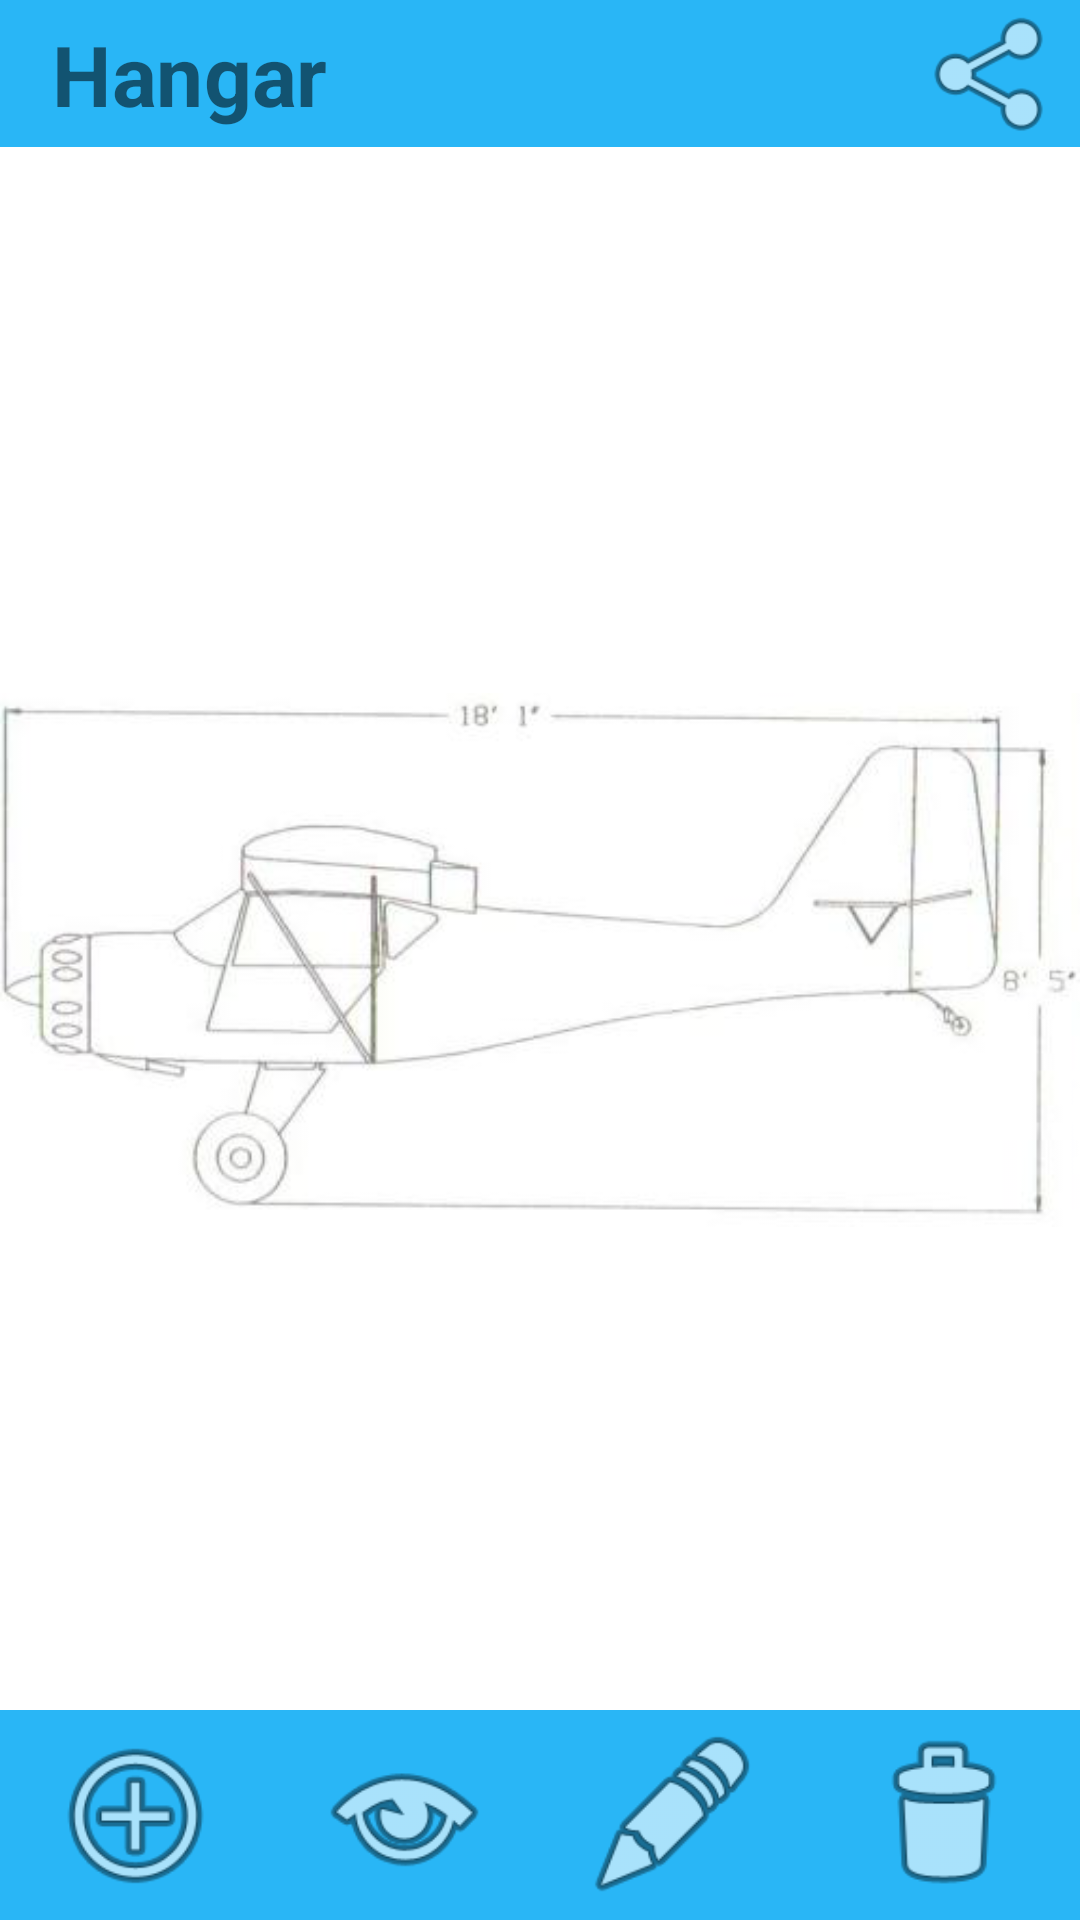

Icon bounding boxes for this 1080 × 1920 phone screenshot, format bbox=(x1, y1, x2, y2):
add: bbox=(68, 1749, 203, 1883)
delete: bbox=(892, 1741, 996, 1883)
edit: bbox=(595, 1737, 749, 1891)
view: bbox=(331, 1773, 478, 1866)
